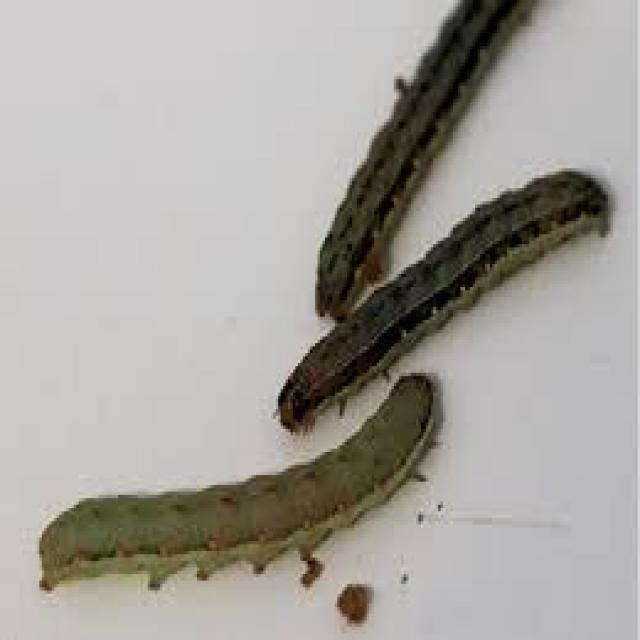armyworm: (278, 166, 612, 428), (43, 368, 437, 581), (309, 1, 545, 308)
